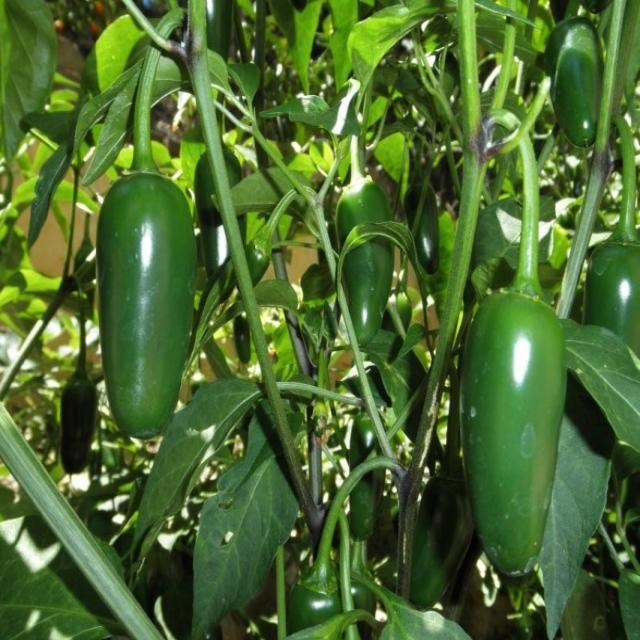aji: (473, 292, 579, 586), (96, 165, 203, 438), (335, 168, 404, 345)
